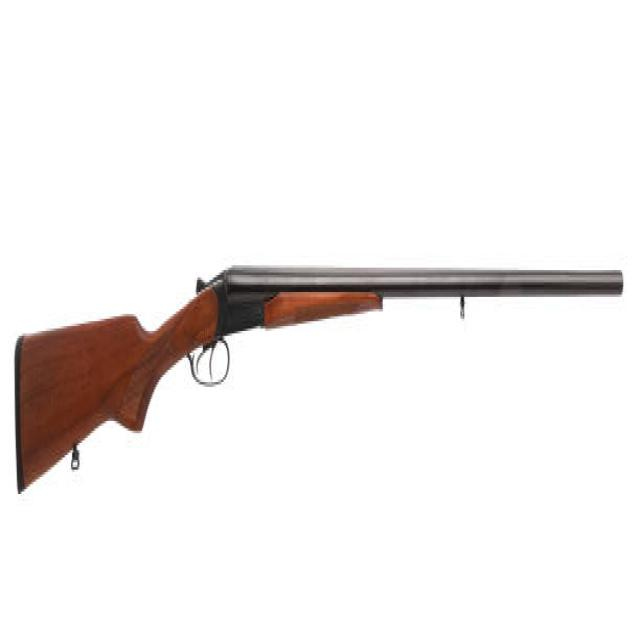rifle: (8, 245, 630, 515)
